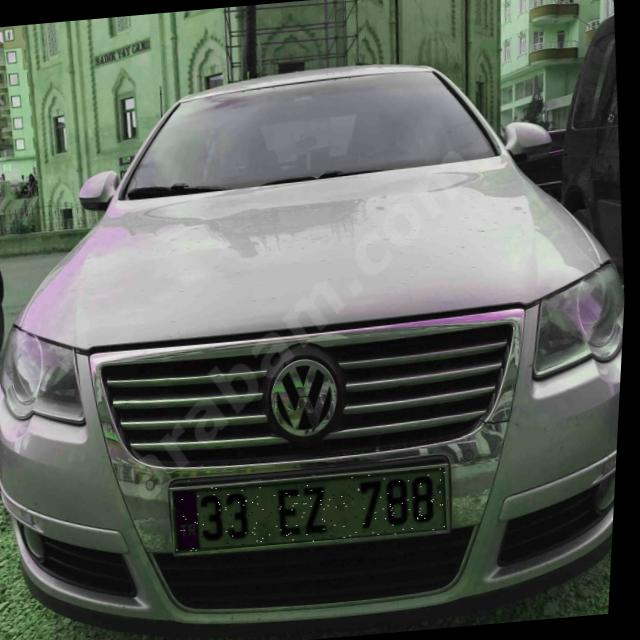license_plate: (175, 467, 454, 553)
